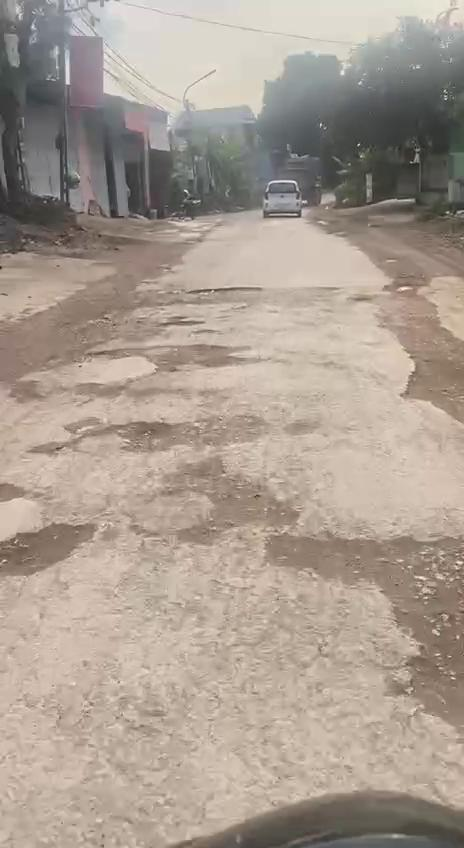pothole: (275, 522, 464, 740), (160, 456, 311, 542), (0, 513, 99, 583), (104, 416, 268, 456), (90, 342, 261, 376)
